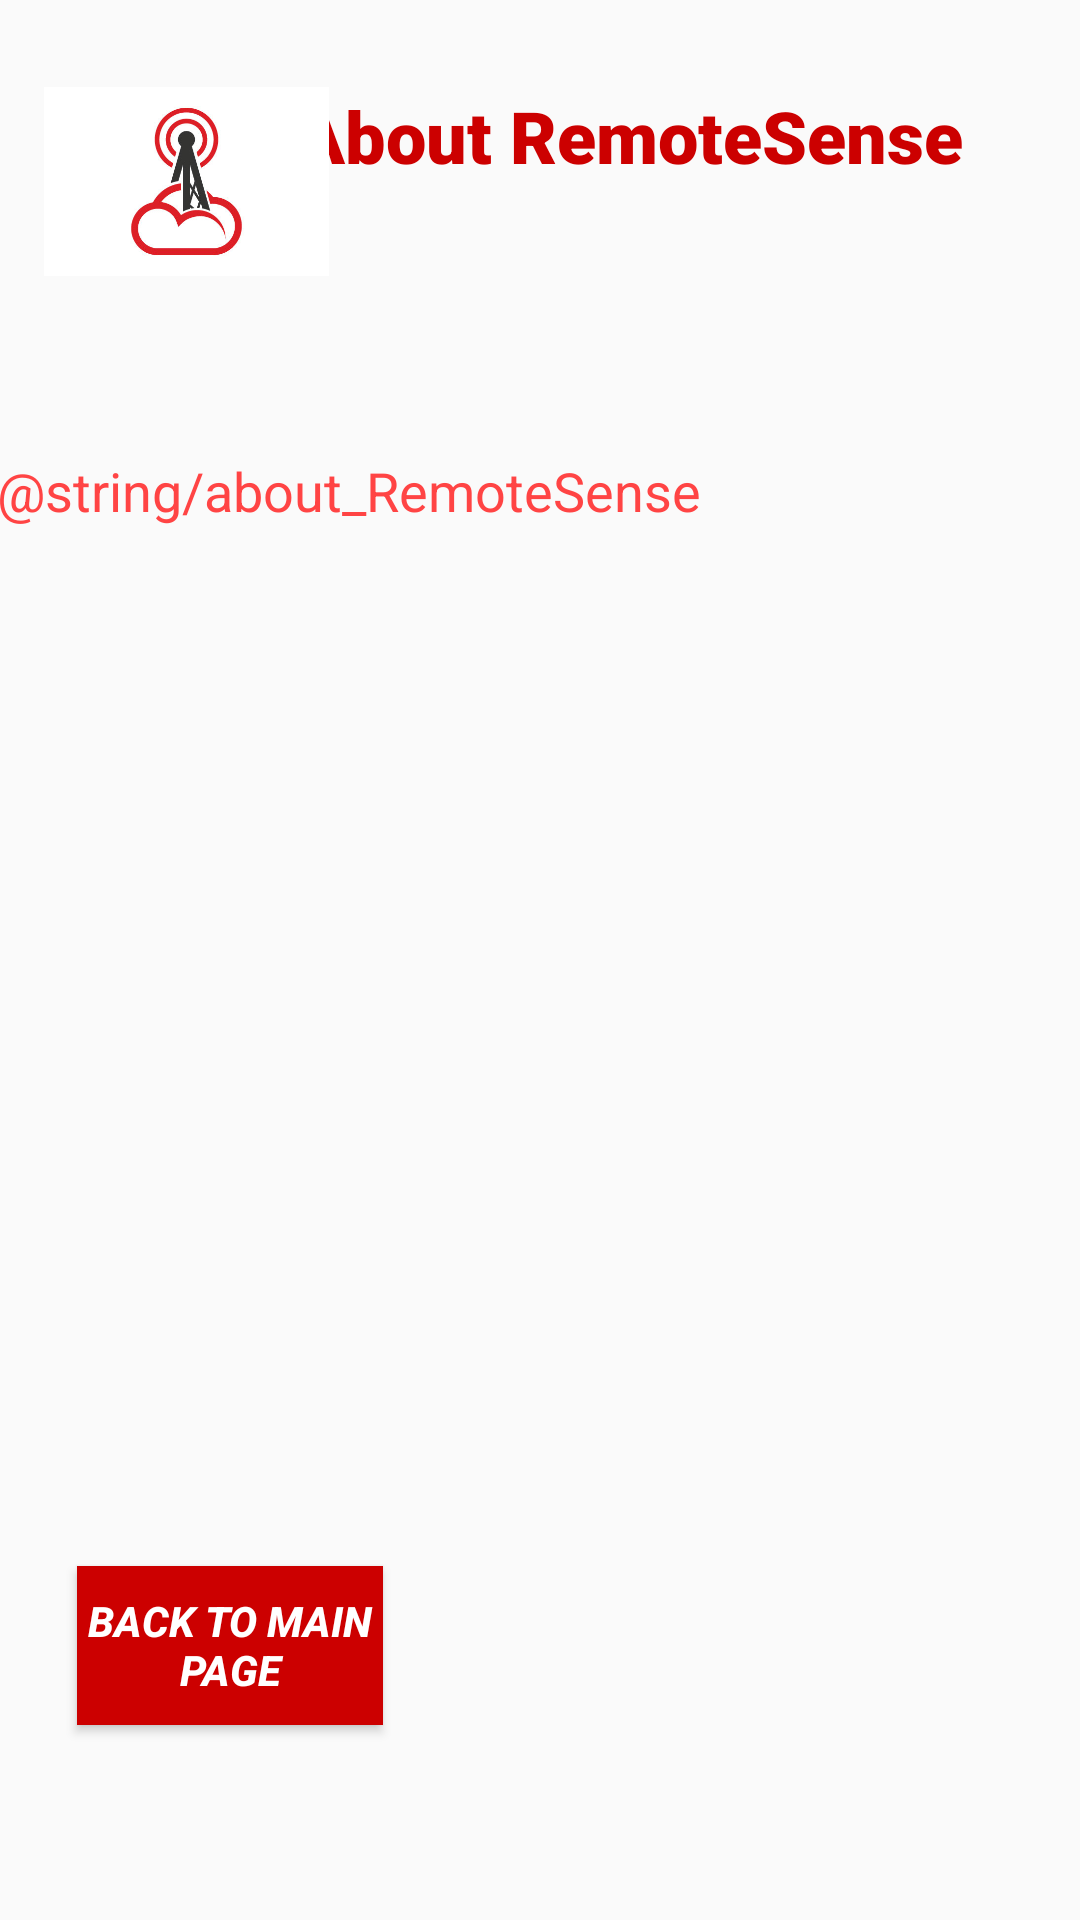

Where to tap for icons on this 1080 × 1920 app screen, as (x,y):
iot: (186,181)
